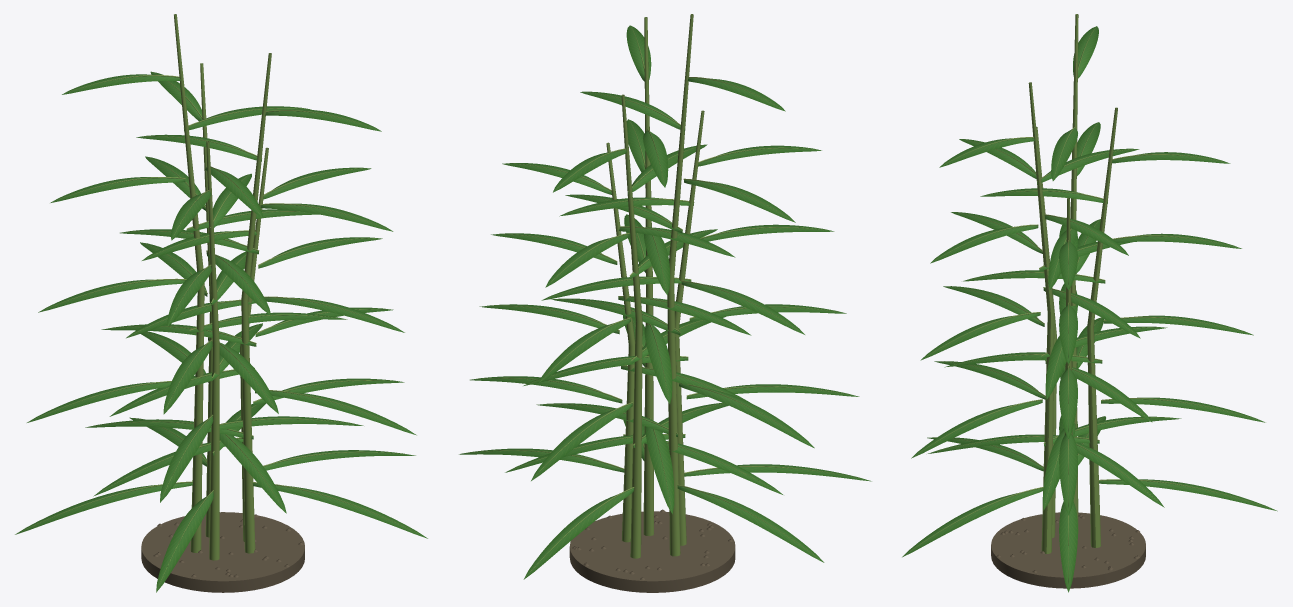
File: ginger.glb
3 renders of one model, left to right at view 1: azimuth 30°, elevation 25°; view 2: azimuth 150°, elevation 25°; view 3: azimuth 270°, elevation 25°, orthographic. The views are drawn at different scales.
Parts seen in each view (by area): view 1: ginger; view 2: ginger; view 3: ginger.
Boxes of the visible parts, x1=… form: ginger: x1=15, y1=14, x2=427, y2=592; ginger: x1=459, y1=14, x2=871, y2=592; ginger: x1=902, y1=14, x2=1277, y2=592.
Size of the model in its own units: 0.4863 by 0.6682 by 0.4382.
3 materials, 1 textured.
